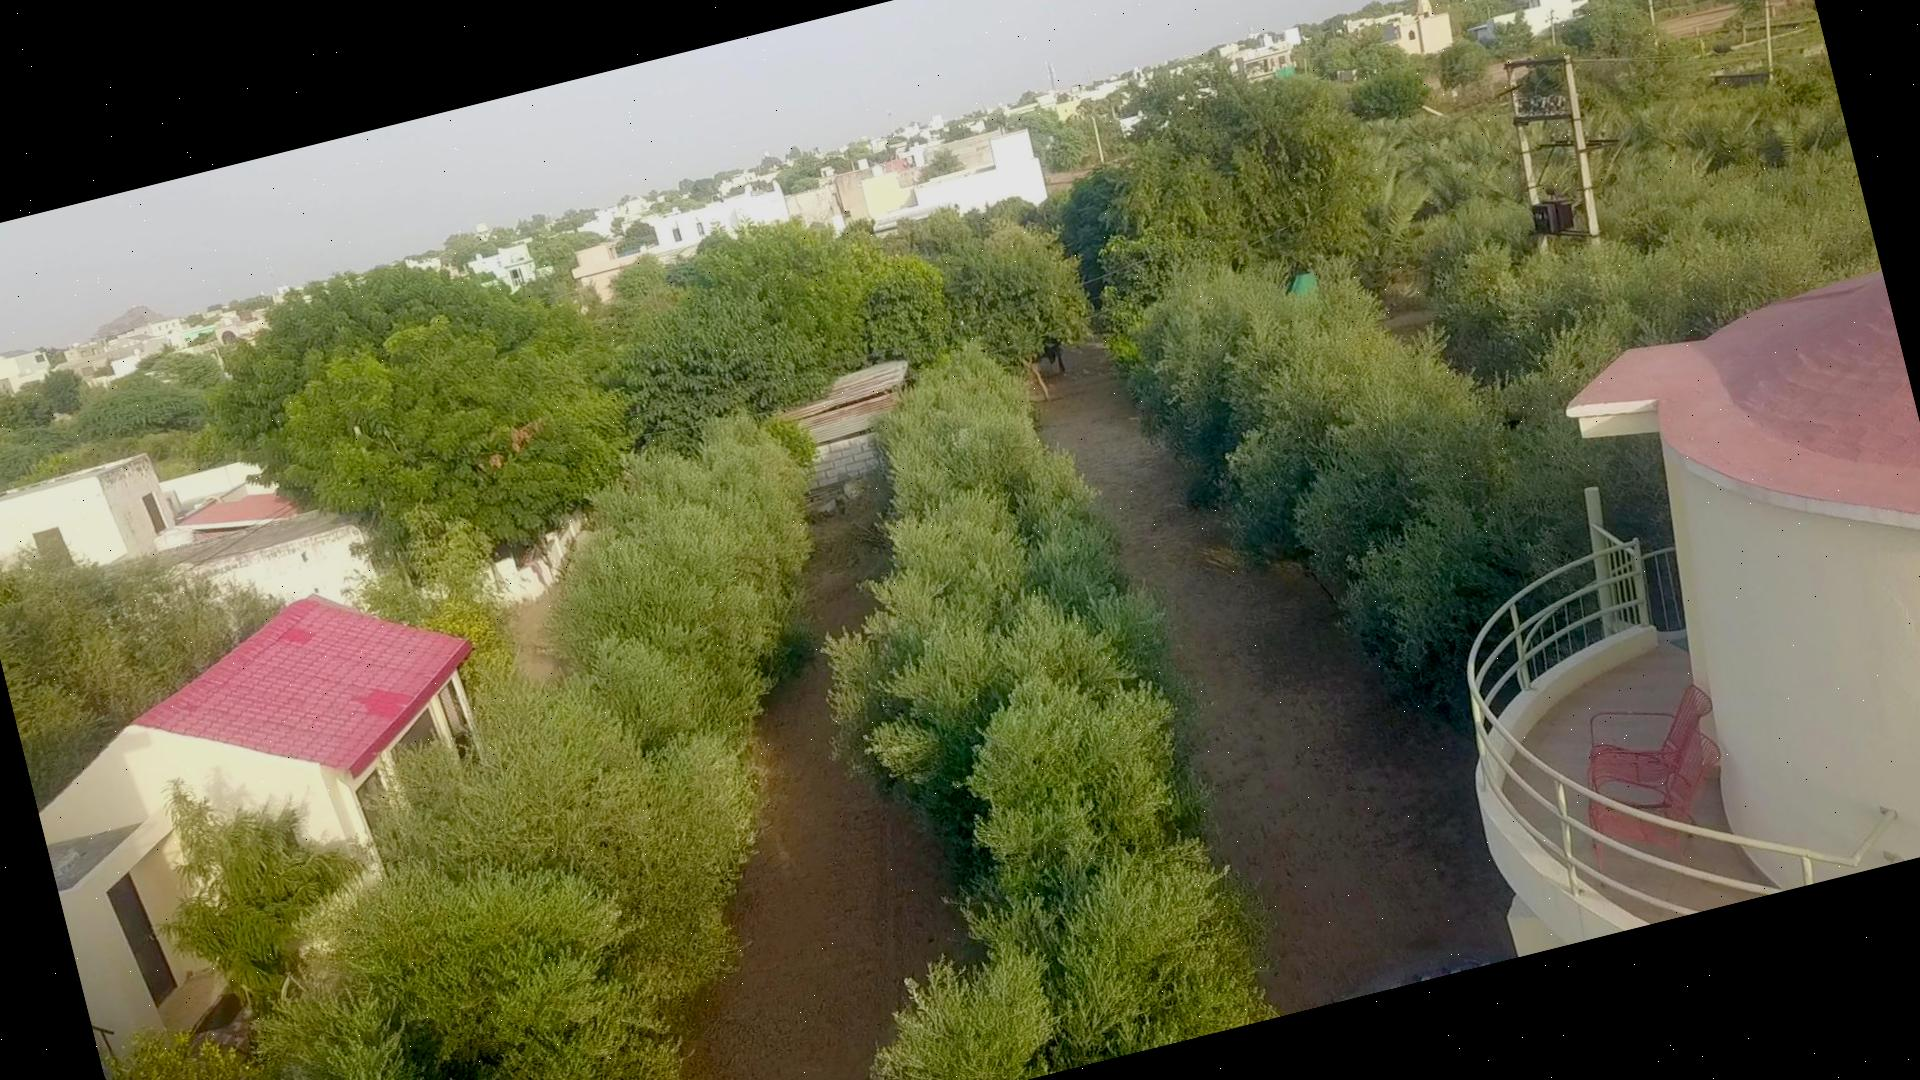canopy: (260, 419, 811, 1080), (823, 348, 1275, 1080), (1120, 260, 1611, 704)
road: (1036, 347, 1510, 1014), (692, 497, 972, 1080)
